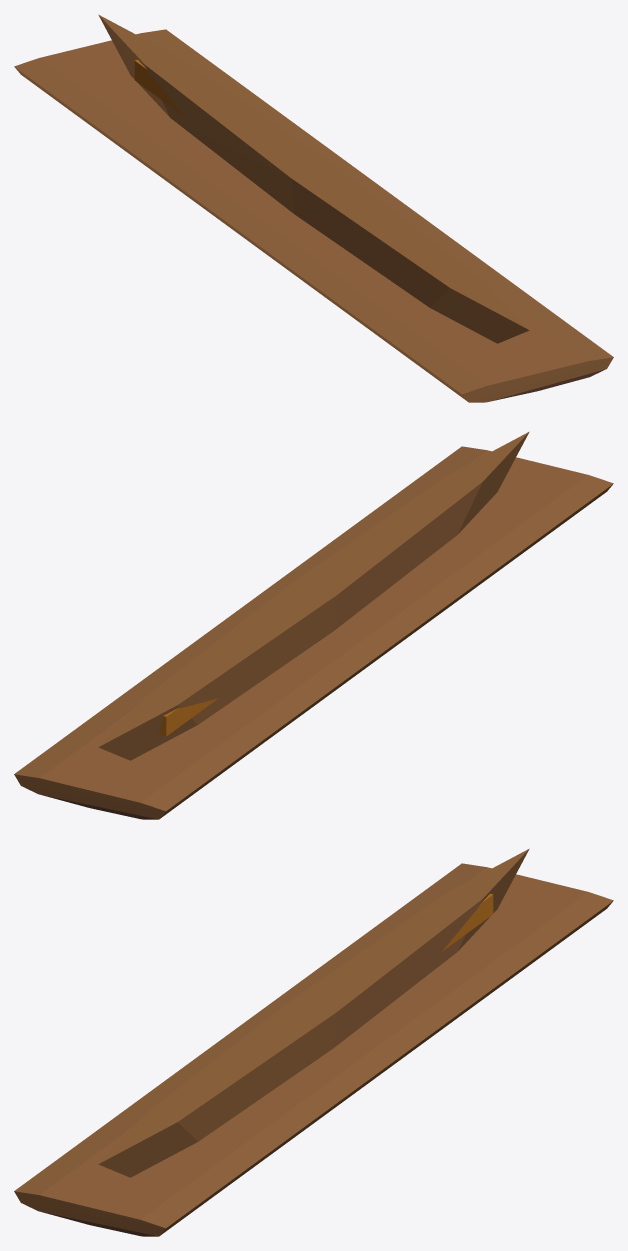
The model's file is paddle-butter.glb.
The picture shows the model from 3 angles, top to bottom: view 1: azimuth 30°, elevation 25°; view 2: azimuth 150°, elevation 25°; view 3: azimuth 330°, elevation 25°; orthographic projection.
Visible parts, largest first — view 1: paddle-butter; view 2: paddle-butter; view 3: paddle-butter.
Boxes of the visible parts, x1,y1,x2,y2 form: paddle-butter: (14,14,613,402); paddle-butter: (14,431,613,819); paddle-butter: (14,848,613,1236).
Size of the model in its own units: 0.29 by 0.1 by 1.48.
